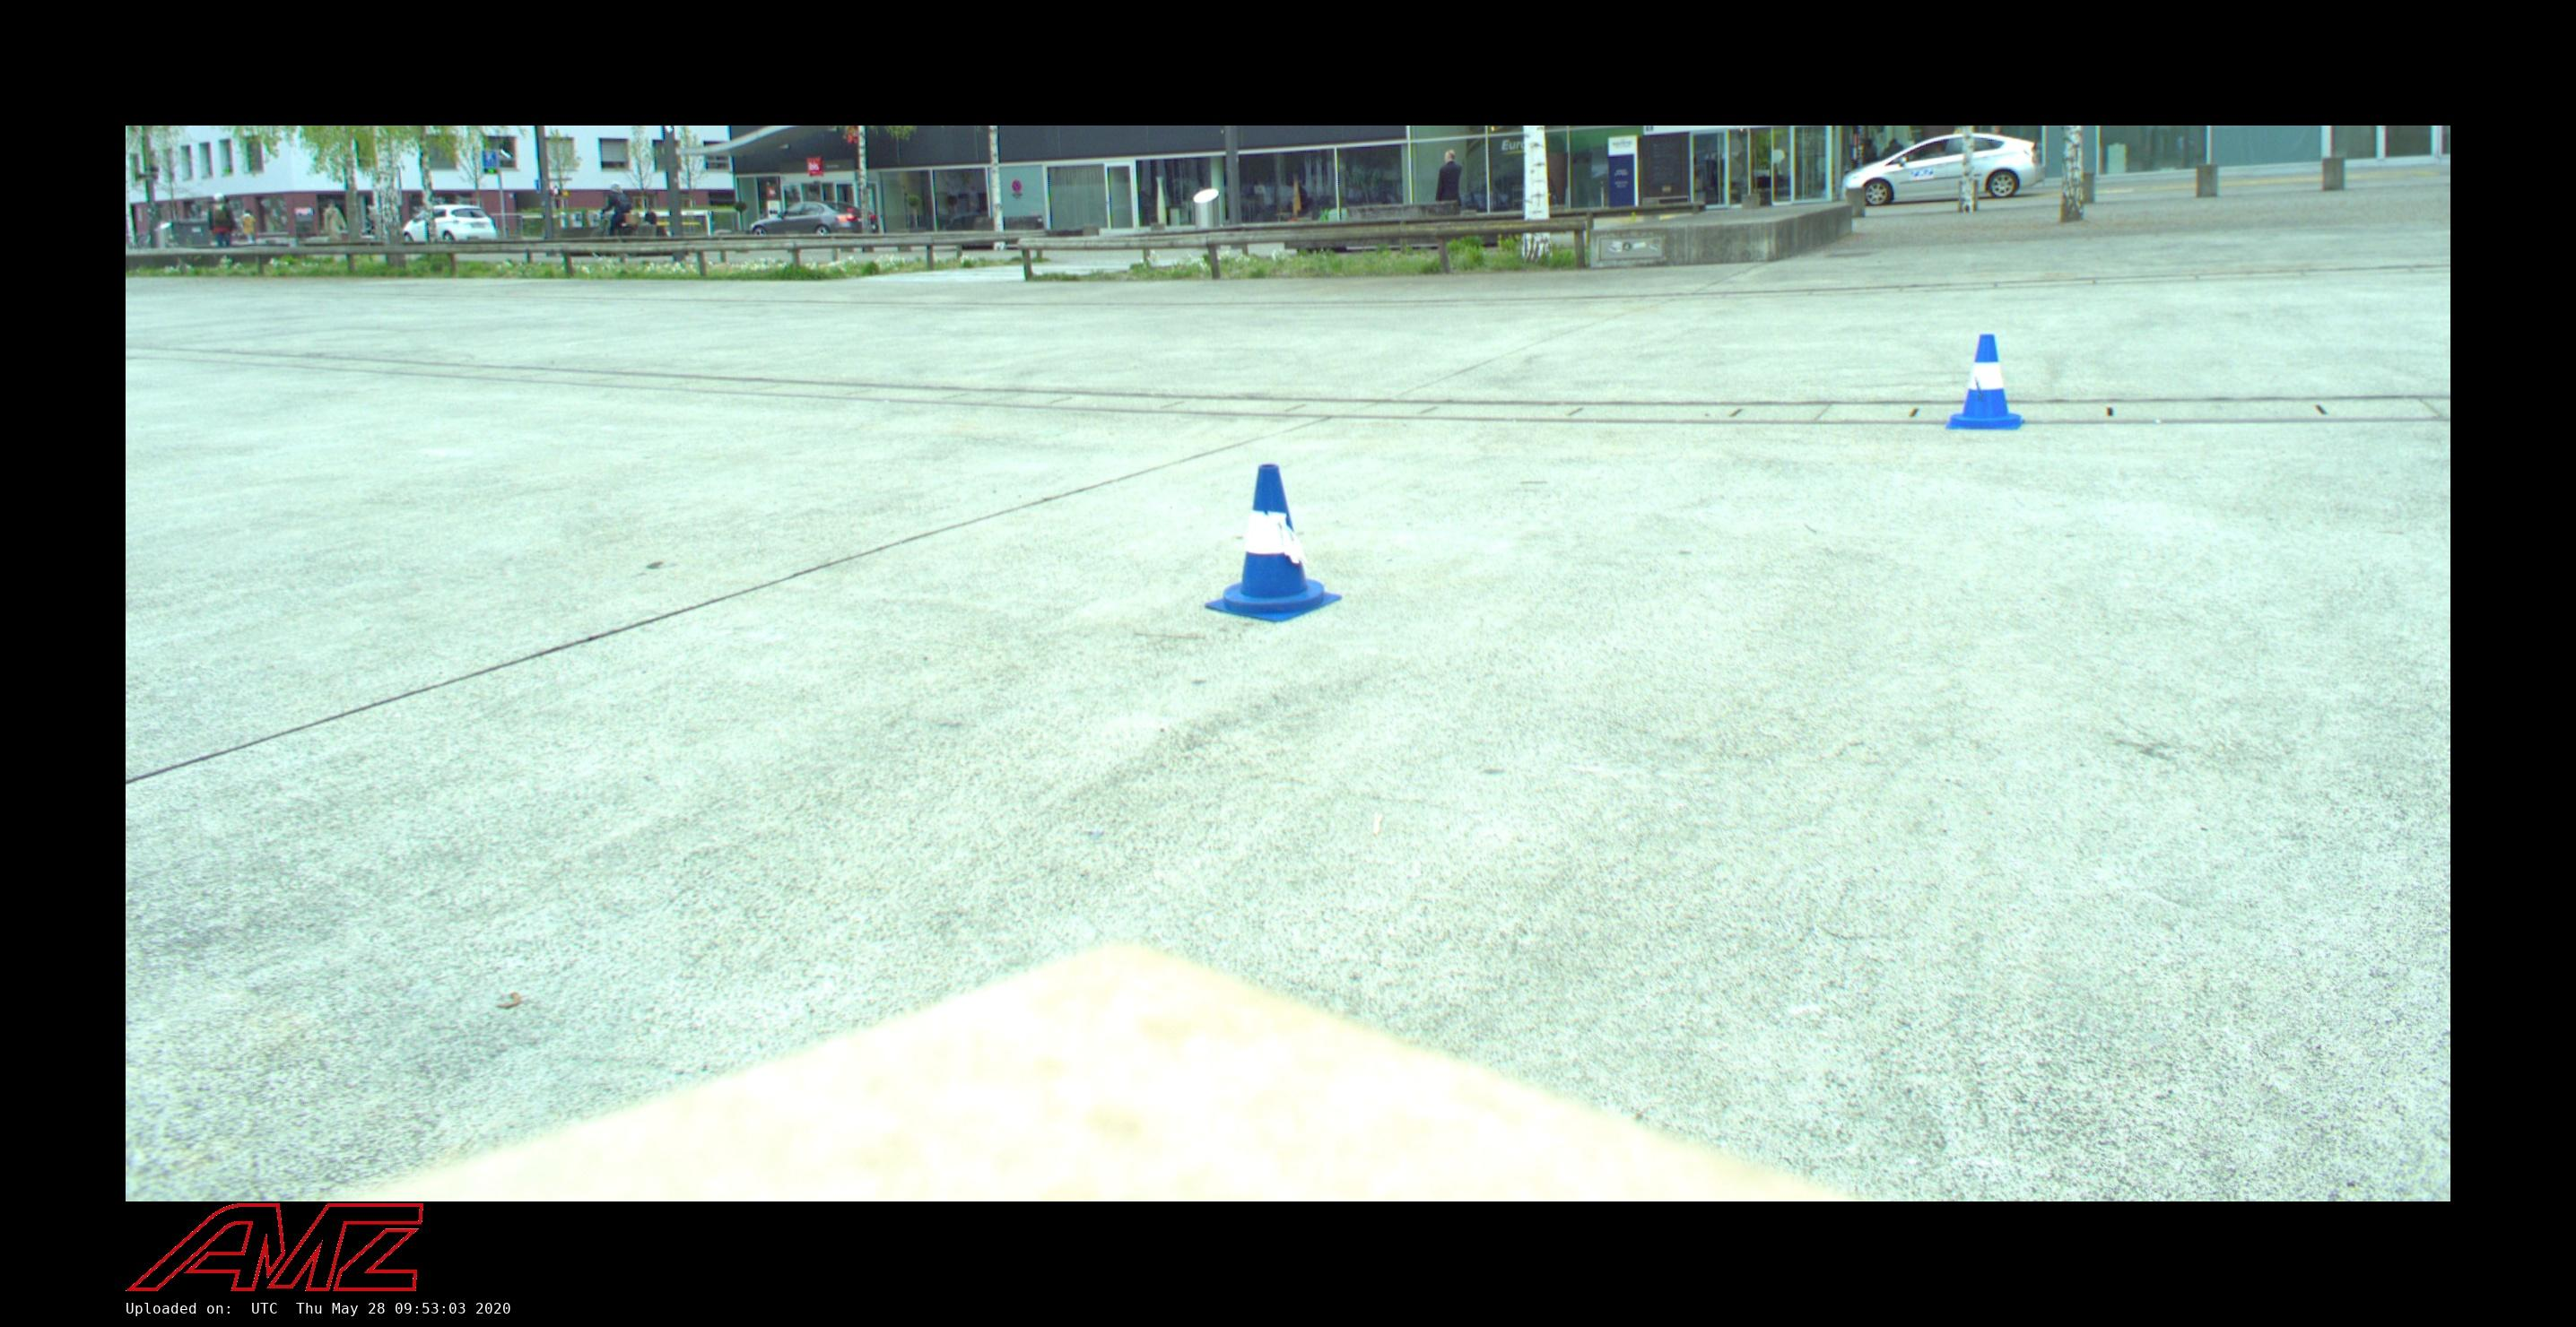blue_cone: (1203, 464, 1344, 622), (1943, 332, 2029, 430)
